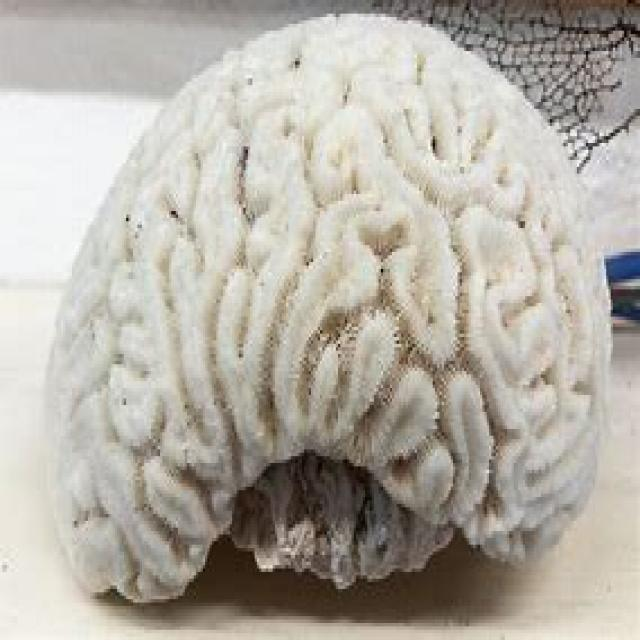Coral: (42, 15, 614, 605)
